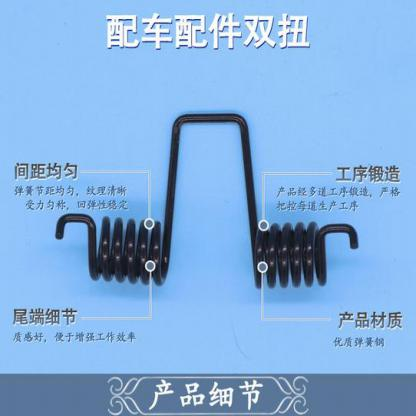FOD: (48, 108, 361, 296)
